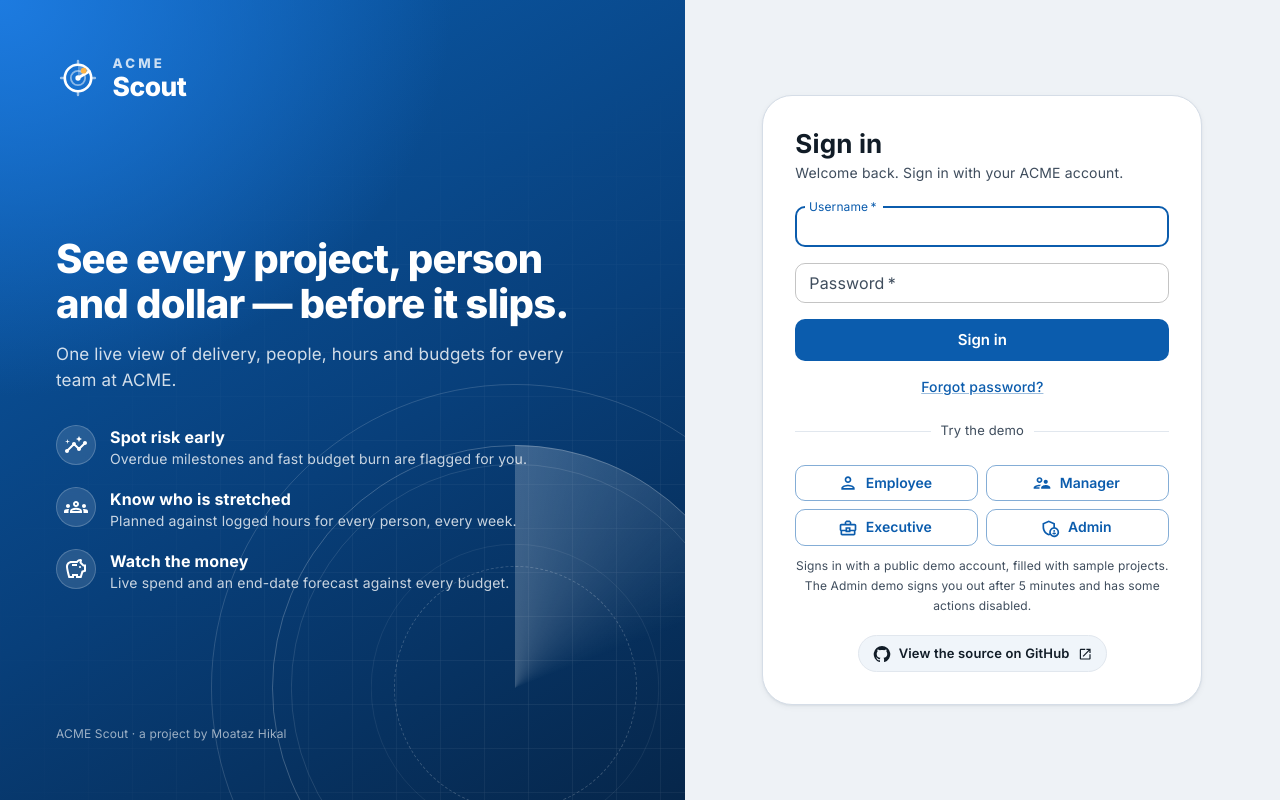
Test: login › wrong credentials show a form message
The image size is (1280, 800).
Type "eli" into the field labelled "Username *".
click(982, 227); type("eli")  # box [795,207,1169,247]
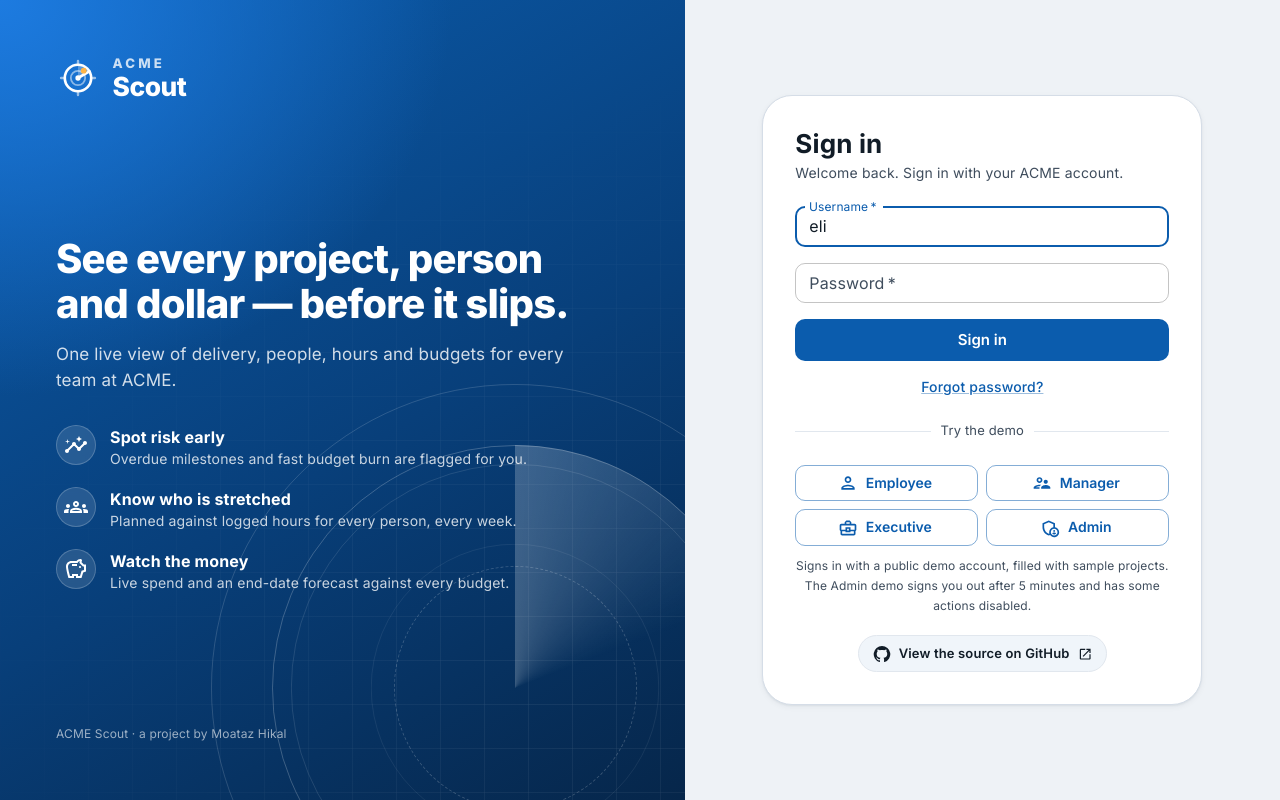
Type "Passw0rd!" into the password field labelled "Password *".
click(982, 283); type("Passw0rd!")  # box [795,263,1169,303]
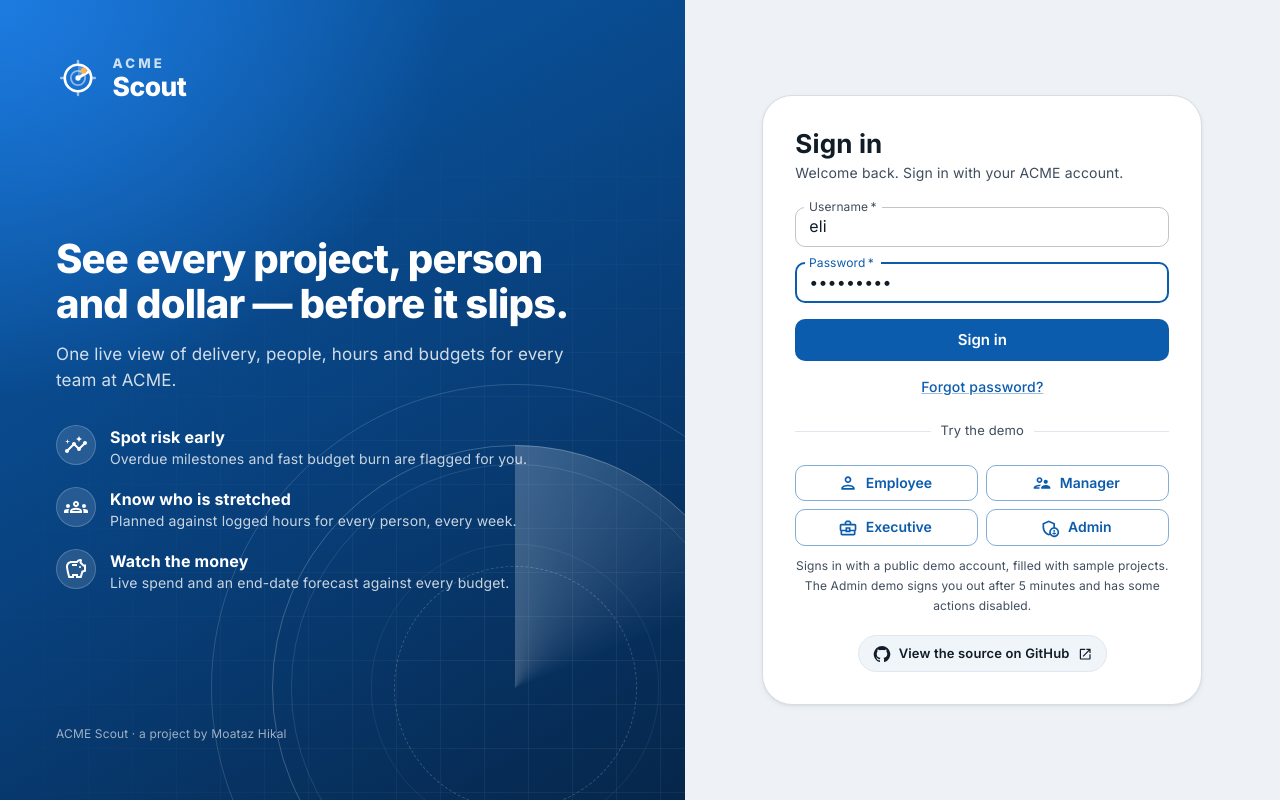
Click the button "Sign in".
click(982, 340)  # box [795,319,1169,361]
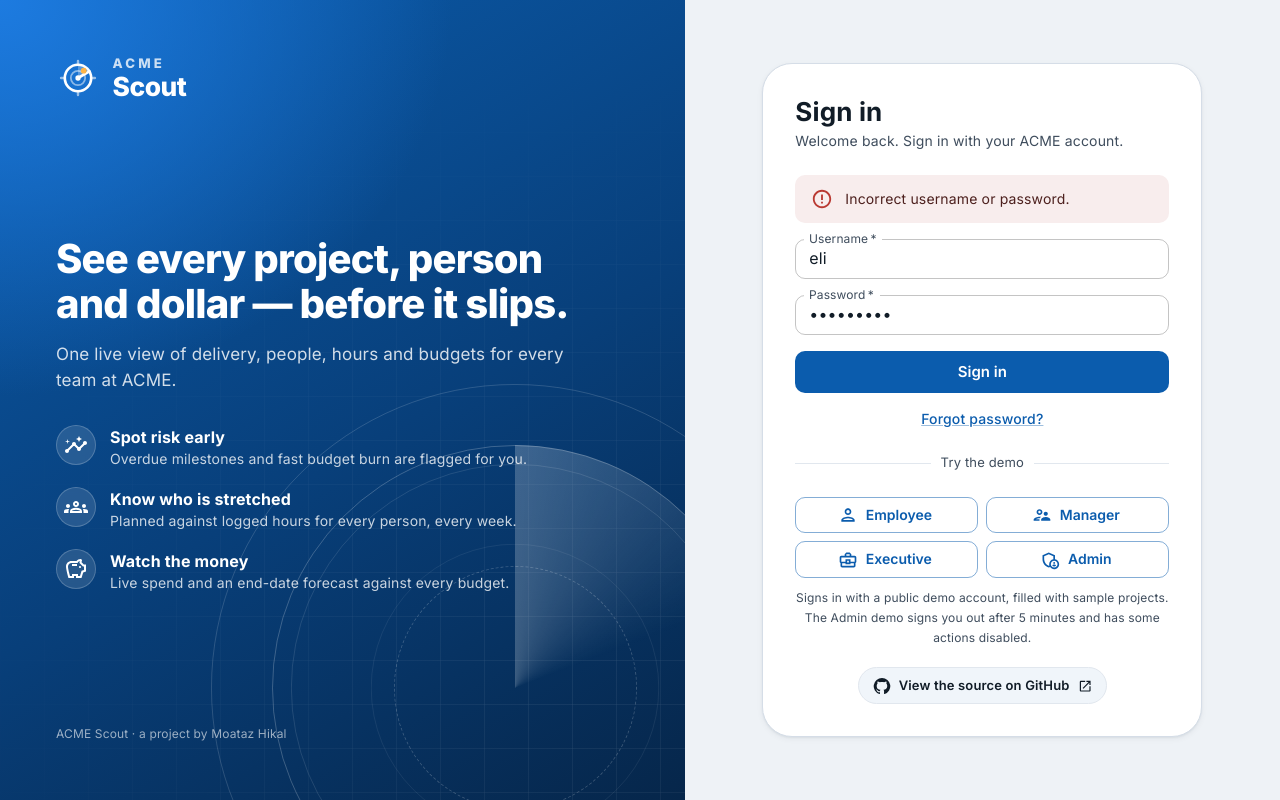
Check: the message shows "Incorrect username or password", box [845,190,1070,207]
